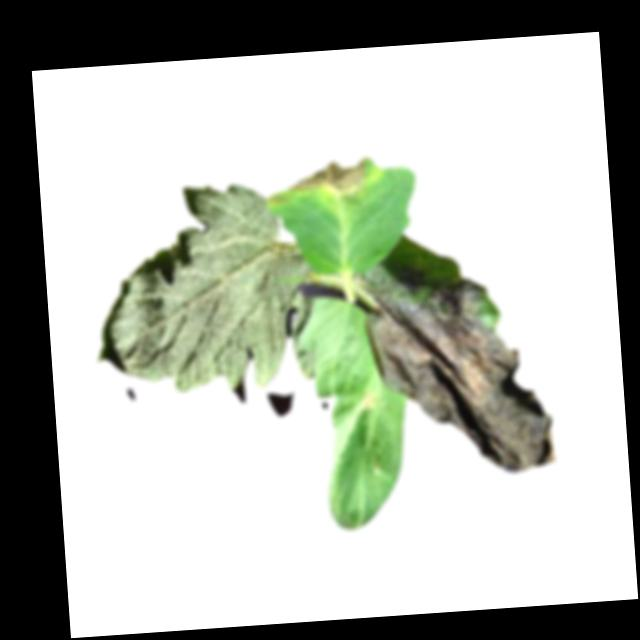Late_blight: (358, 254, 555, 485), (281, 156, 370, 201), (355, 392, 378, 417)
healthy: (83, 179, 313, 398)
